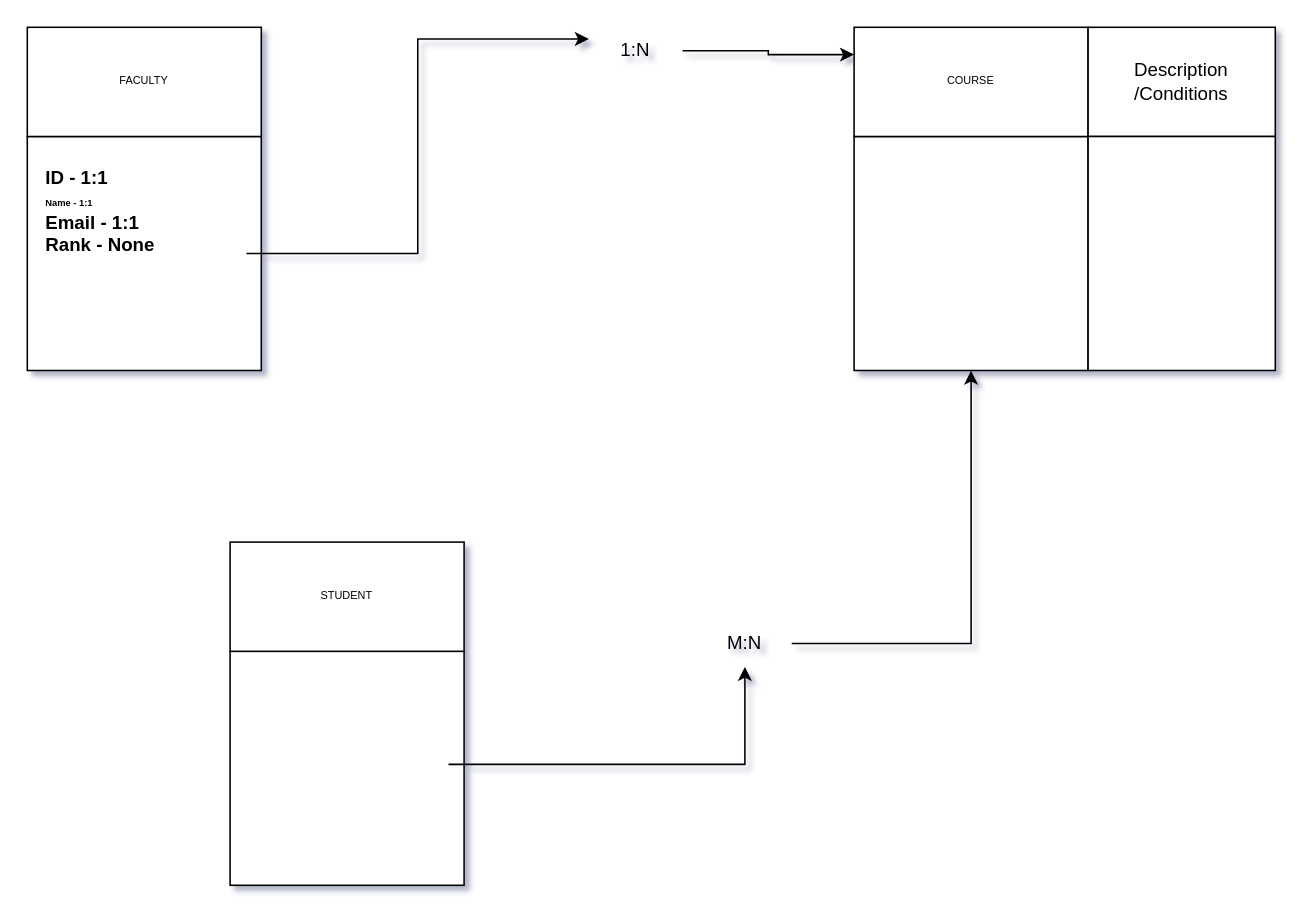
Image size: 1312x922. Some labels were removed from this diagram. Each missing label, with the box of its shape:
- Minimum 5 students per course -: (1087, 135, 1275, 370)
ID - 1:1 Description - M:1 NofCreditHours - None: (853, 135, 1088, 370)
ID - 1:1 Name - 1:1 Email - 1:1 Major - M:1 Address - 1:1: (229, 650, 464, 885)
